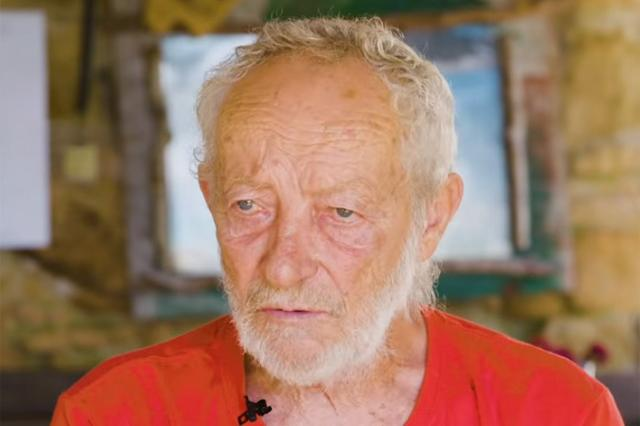forehead: (312, 123, 348, 149), (258, 126, 294, 144)
gummy_smile: (314, 258, 342, 284)
